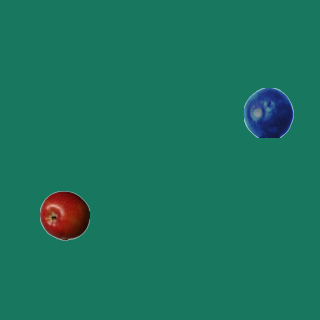Apple Braeburn: (39, 190, 89, 240)
Huckleberry: (243, 87, 293, 137)
